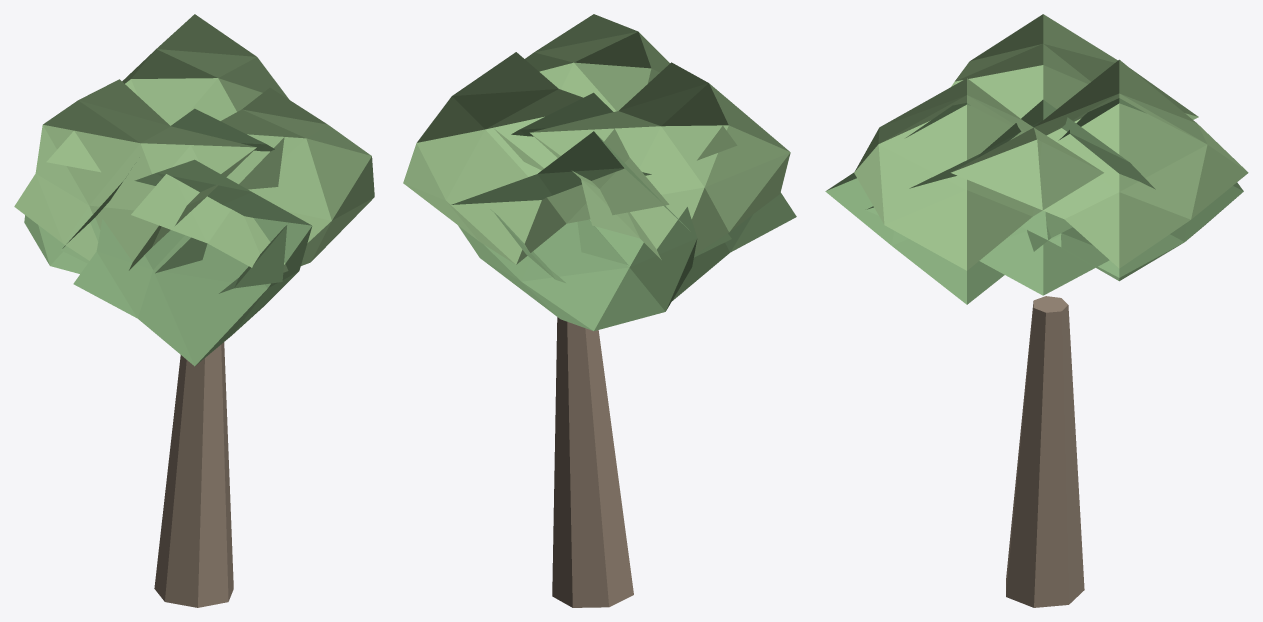
Rendered from broadleaf_v02.glb.
3 views of the same model, side by side, from view 1: azimuth 30°, elevation 25°; view 2: azimuth 150°, elevation 25°; view 3: azimuth 270°, elevation 25° (orthographic). The views are drawn at different scales.
Parts seen in each view (by area): view 1: lod0; view 2: lod0; view 3: lod0.
Part boxes in pixels (x1,y1,x2,y2): lod0: [14, 14, 374, 607]; lod0: [403, 14, 796, 607]; lod0: [825, 14, 1248, 607].
Size of what is drawn, in the model's own units: 3.26 by 5.28 by 3.69.
